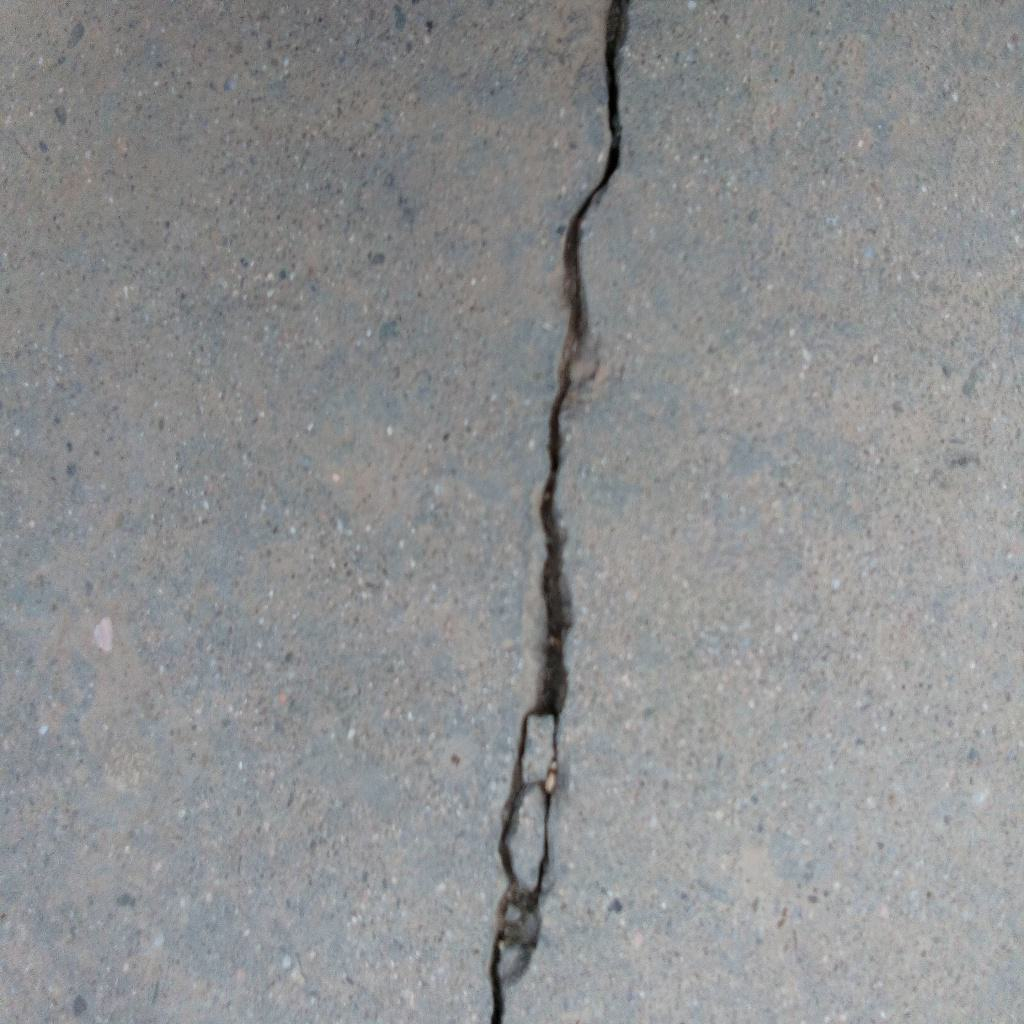Crack: (486, 1, 630, 1024)
